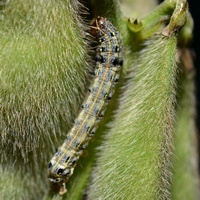insect: (49, 17, 122, 194)
